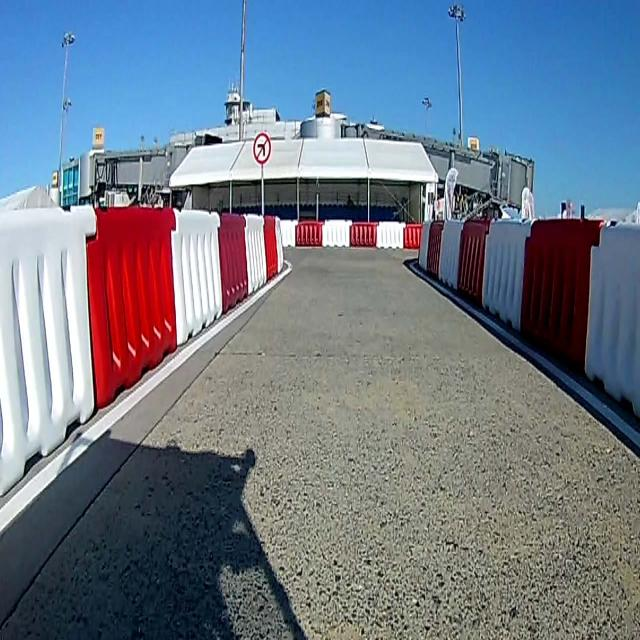soladonulmez: (254, 132, 272, 167)
